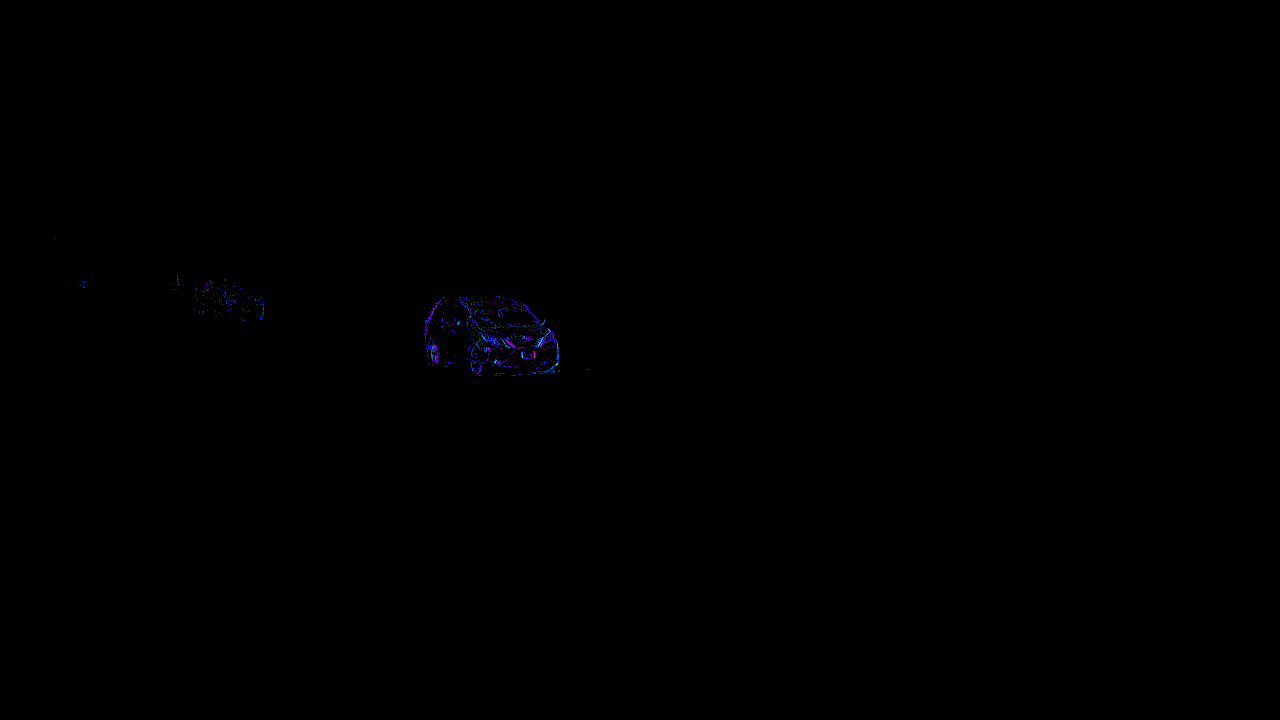car: (426, 296, 558, 373), (1226, 300, 1279, 341), (214, 284, 264, 318), (194, 278, 227, 314), (166, 275, 179, 289)
